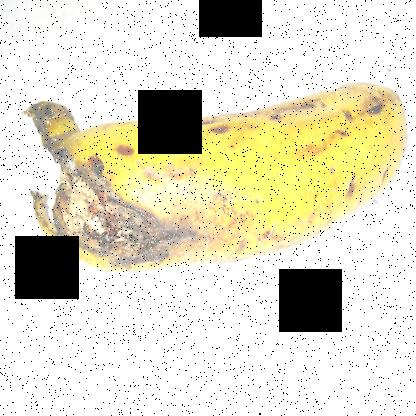rotten: (1, 69, 196, 287)
